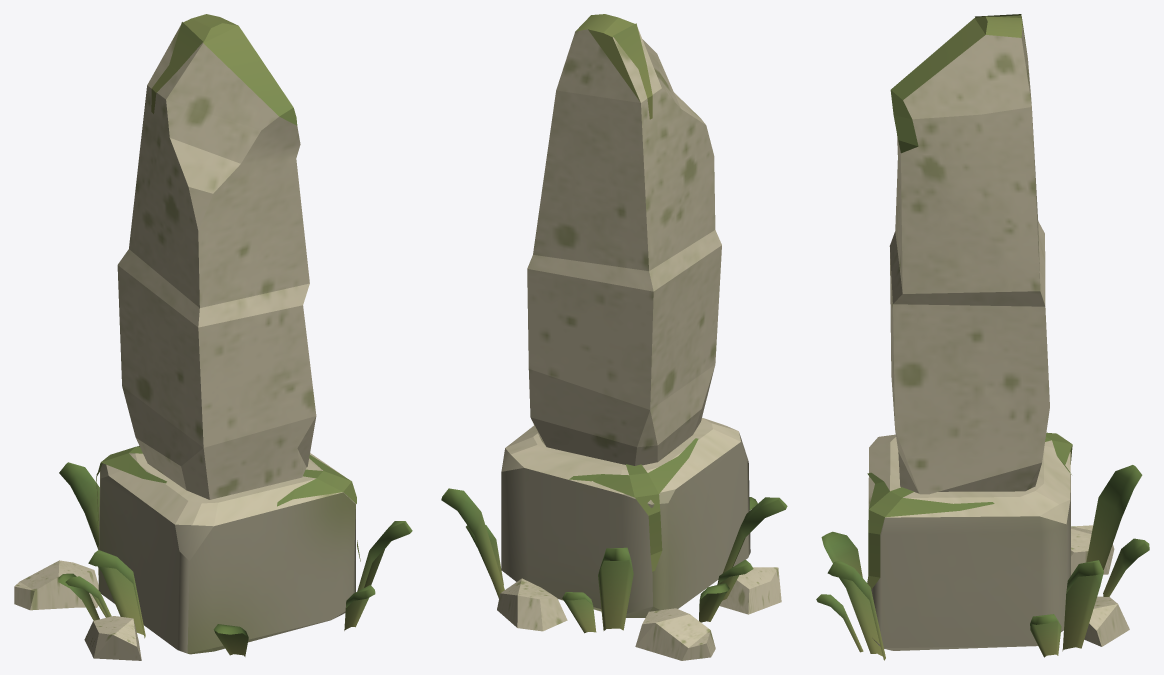
File: BO_StoneGrass_01_2x5x2.fbx
3 views of the same model, side by side, from view 1: azimuth 30°, elevation 25°; view 2: azimuth 150°, elevation 25°; view 3: azimuth 270°, elevation 25° (orthographic). The views are drawn at different scales.
Visible parts, largest first — view 1: BO_StoneGrass_DM_01; view 2: BO_StoneGrass_DM_01; view 3: BO_StoneGrass_DM_01.
Part boxes in pixels (left/top/right/bottom): BO_StoneGrass_DM_01: left=14, top=14, right=412, bottom=660; BO_StoneGrass_DM_01: left=441, top=14, right=787, bottom=660; BO_StoneGrass_DM_01: left=816, top=14, right=1149, bottom=660.
Bounding box in the file's own units: 248 × 504 × 253.
